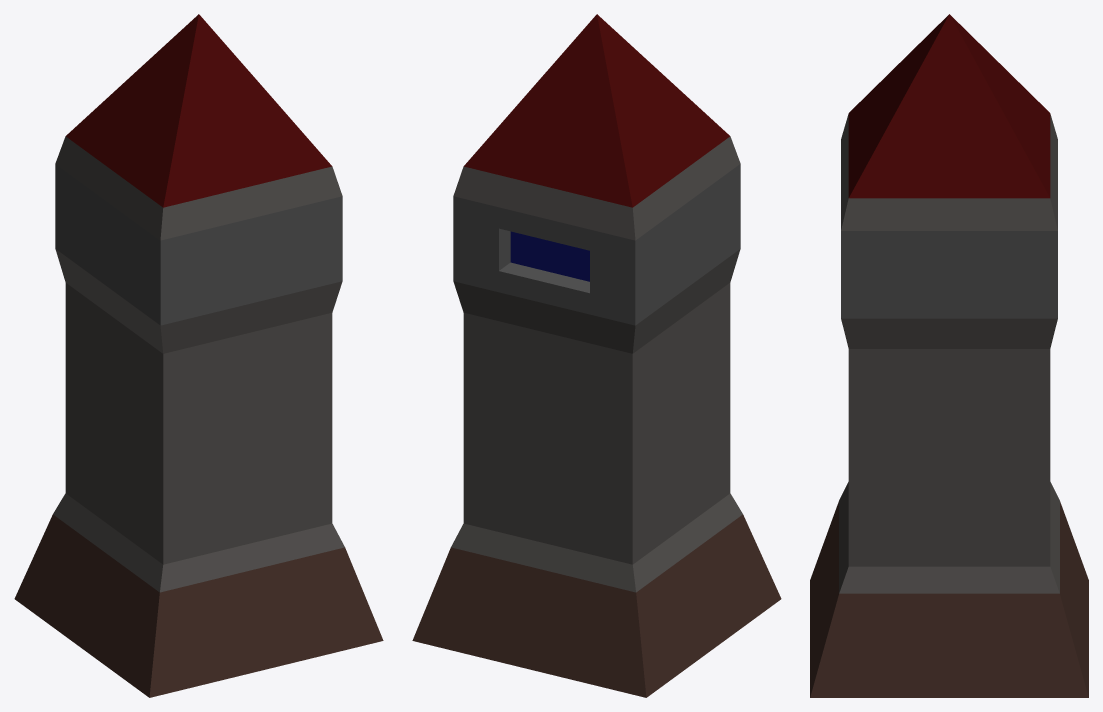
The model's file is tower3.obj.
The picture shows the model from 3 angles, left to right: view 1: azimuth 30°, elevation 25°; view 2: azimuth 150°, elevation 25°; view 3: azimuth 270°, elevation 25°; orthographic projection. The views are drawn at different scales.
Parts seen in each view (by area): view 1: body_Cube, base_Cube.001, roff_Cube.002, top_Cube.004; view 2: body_Cube, base_Cube.001, roff_Cube.002, top_Cube.004, window_Cube.003; view 3: body_Cube, base_Cube.001, roff_Cube.002, top_Cube.004.
Boxes of the visible parts, bbox=[...] form: body_Cube: bbox=[53, 136, 344, 592]; base_Cube.001: bbox=[14, 514, 383, 697]; roff_Cube.002: bbox=[66, 14, 332, 207]; top_Cube.004: bbox=[55, 164, 342, 325]; body_Cube: bbox=[451, 136, 742, 592]; base_Cube.001: bbox=[412, 514, 781, 697]; roff_Cube.002: bbox=[463, 14, 729, 207]; top_Cube.004: bbox=[453, 164, 740, 325]; window_Cube.003: bbox=[510, 231, 589, 281]; body_Cube: bbox=[839, 114, 1059, 593]; base_Cube.001: bbox=[810, 501, 1088, 697]; roff_Cube.002: bbox=[848, 14, 1050, 198]; top_Cube.004: bbox=[841, 231, 1057, 318].
Size of the model in its own units: 2.77 by 6.84 by 2.77.
